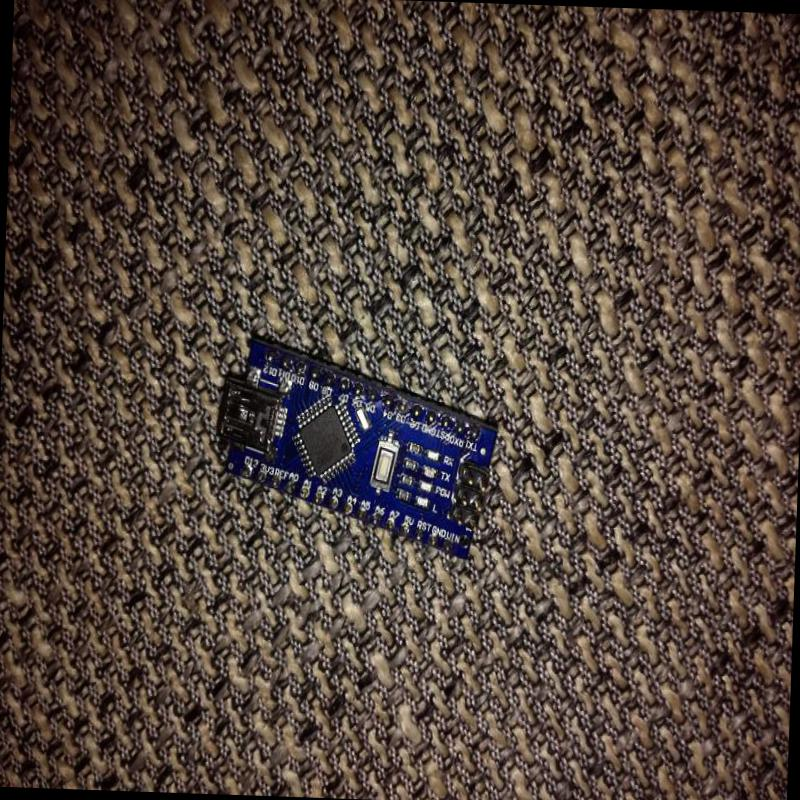Arduino_Nano: (210, 317, 511, 567)
